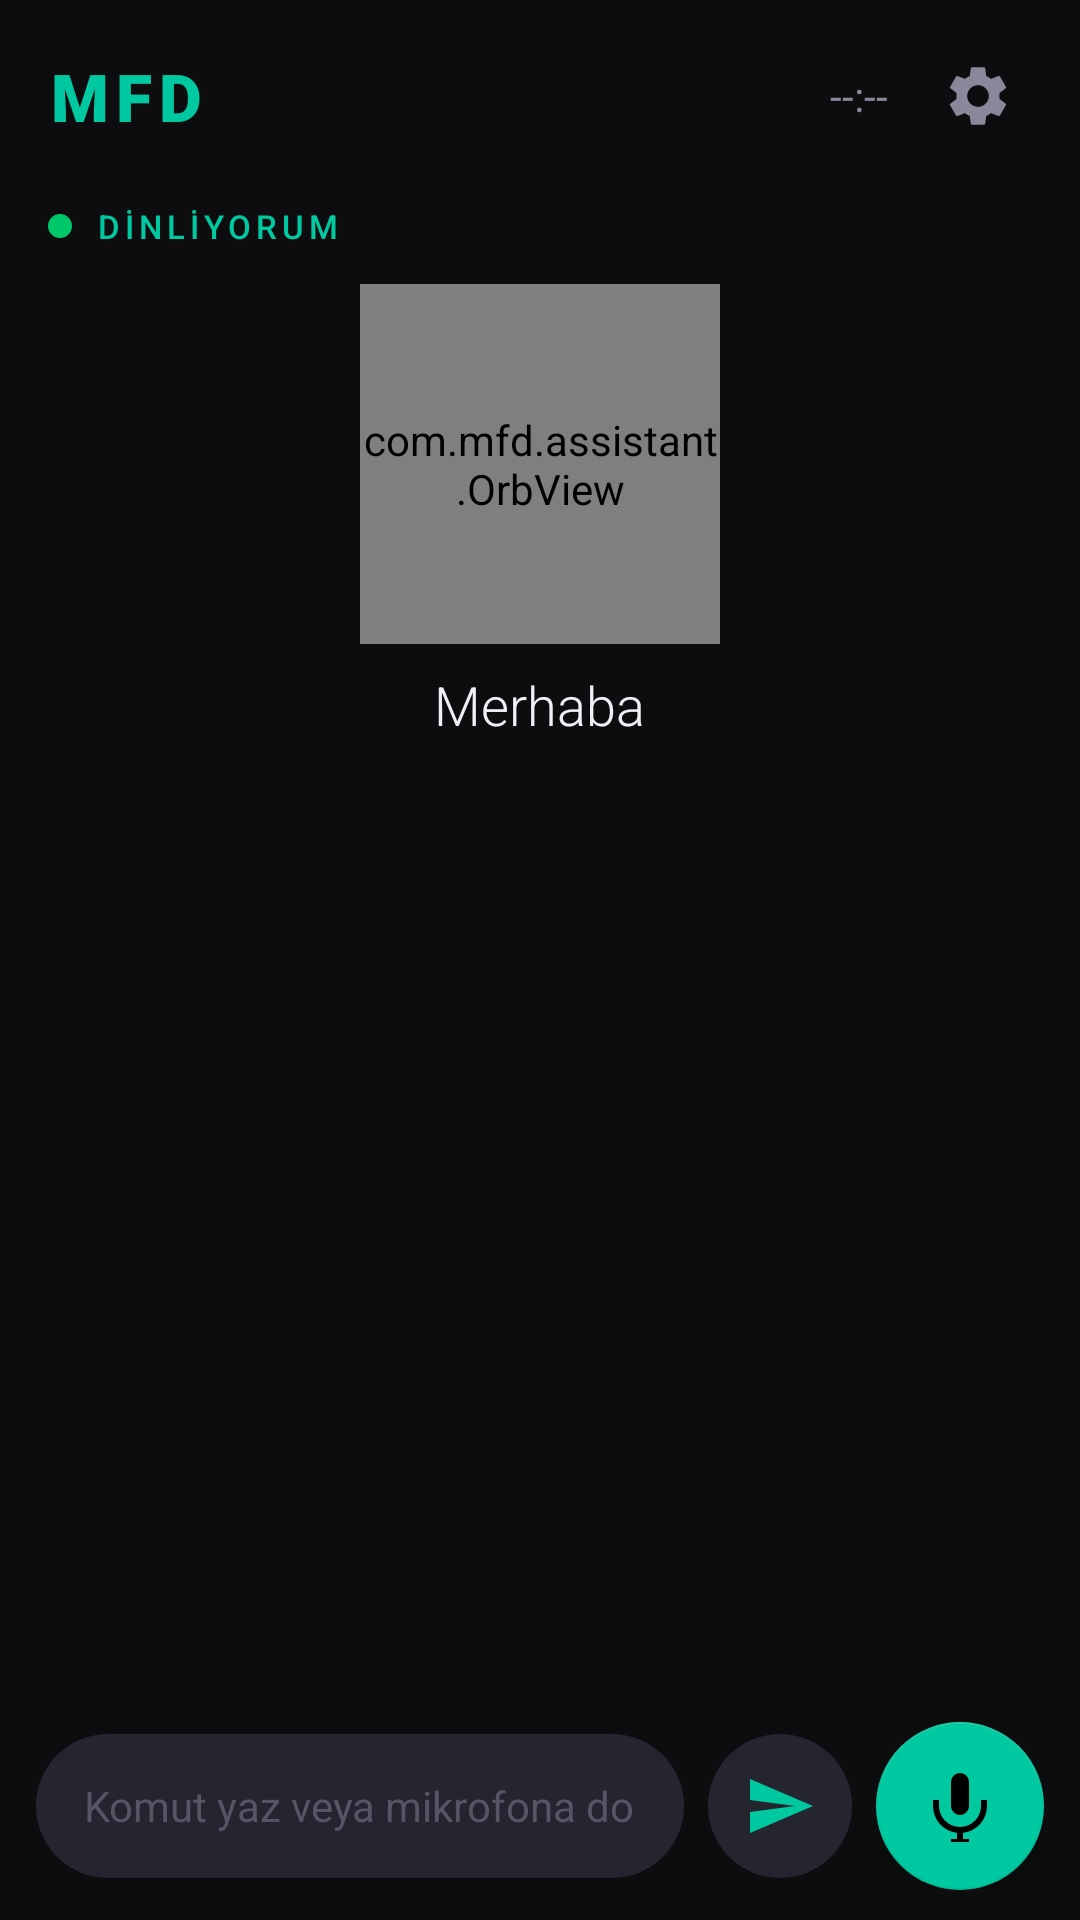

Locate icon controls on the screen. Image size 1080*1920, boxes as (x1, y1, x2, y2).
Ayarlar: (950, 67, 1006, 125)
Gönder: (708, 1734, 852, 1878)
Mikrofon: (876, 1722, 1044, 1890)
